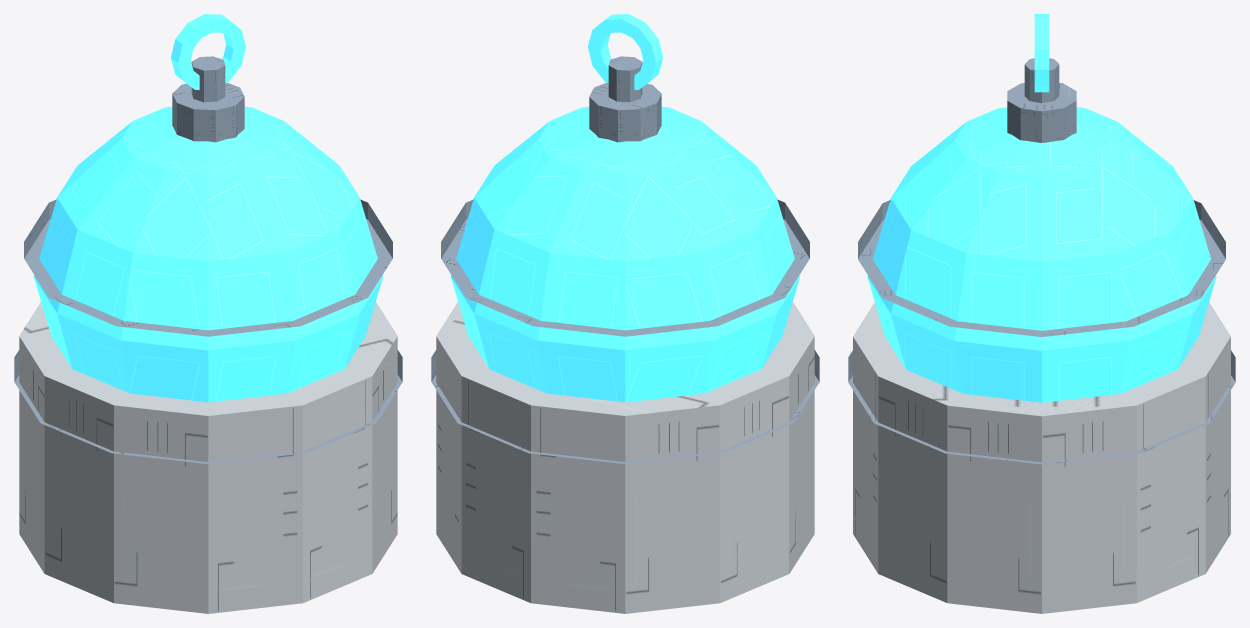
The model's file is spark.glb.
3 renders of one model, left to right at view 1: azimuth 30°, elevation 25°; view 2: azimuth 150°, elevation 25°; view 3: azimuth 270°, elevation 25°, orthographic.
Parts seen in each view (by area): view 1: body, fuse; view 2: body, fuse; view 3: body, fuse.
Part boxes in pixels (x1,y1,x2,y2): body: [14, 82, 402, 613]; fuse: [171, 14, 245, 102]; body: [431, 82, 819, 613]; fuse: [588, 14, 662, 102]; body: [848, 83, 1235, 613]; fuse: [1024, 14, 1059, 103].
Bounding box in the file's own units: 0.2665 × 0.392 × 0.2665.
3 materials, 3 textured.
